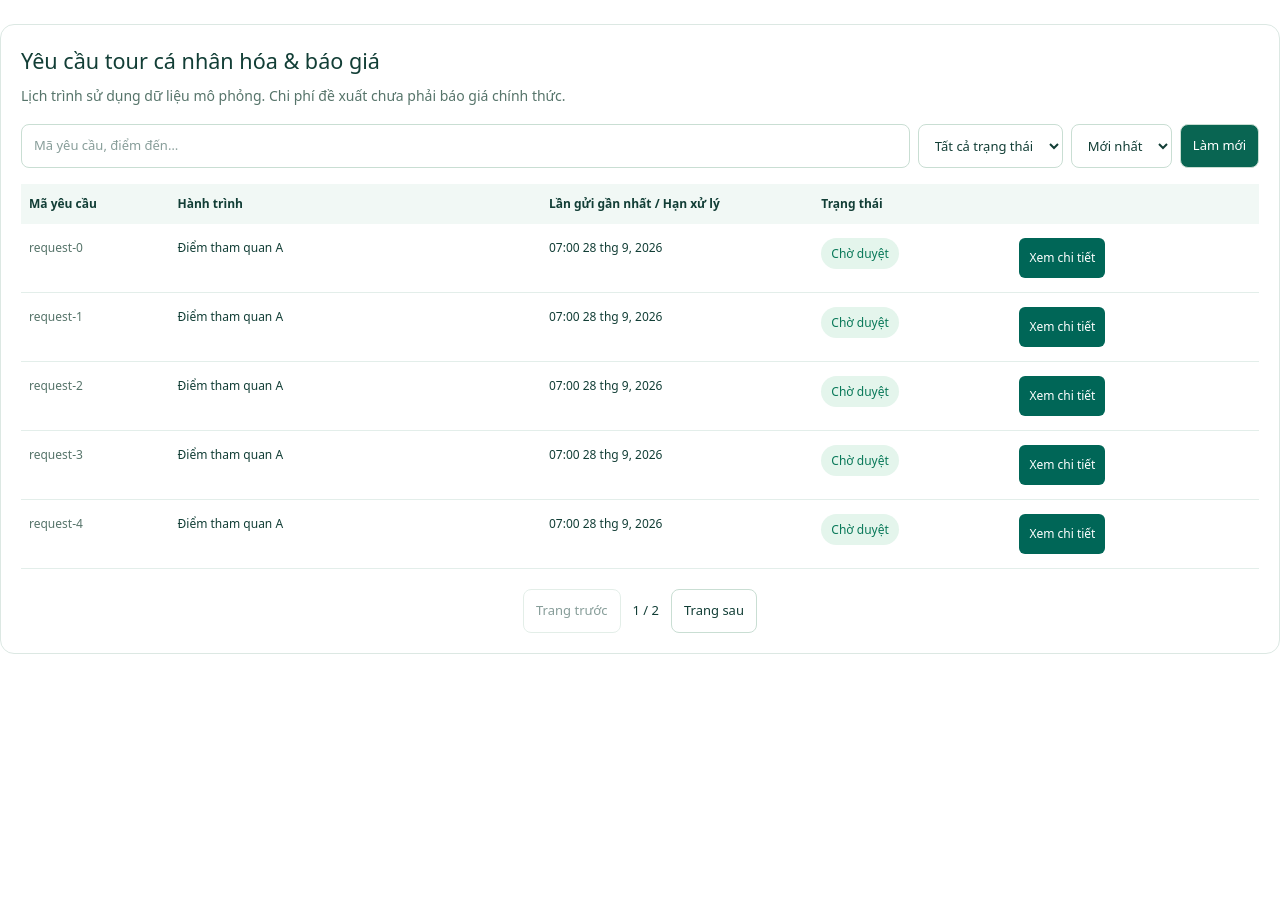
Scenario: searches requests, filters status and resets pagination
Expected: the text "request-0" is shown, [29,239,83,256]
Click the button "Trang sau": (714, 611) [671,589,757,633]
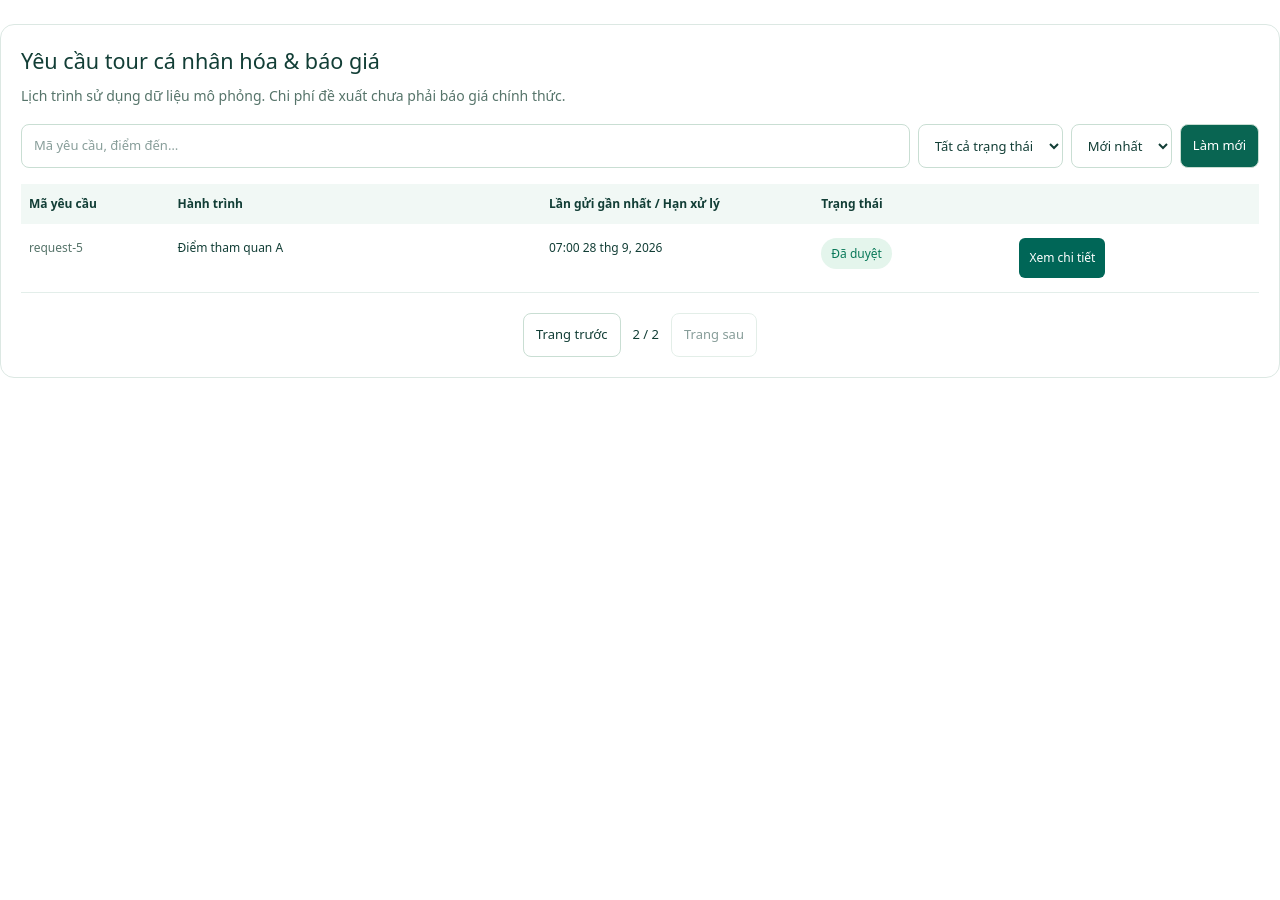
In the search field named "Tìm yêu cầu": (465, 146) [21,124,910,168], type "request-0"
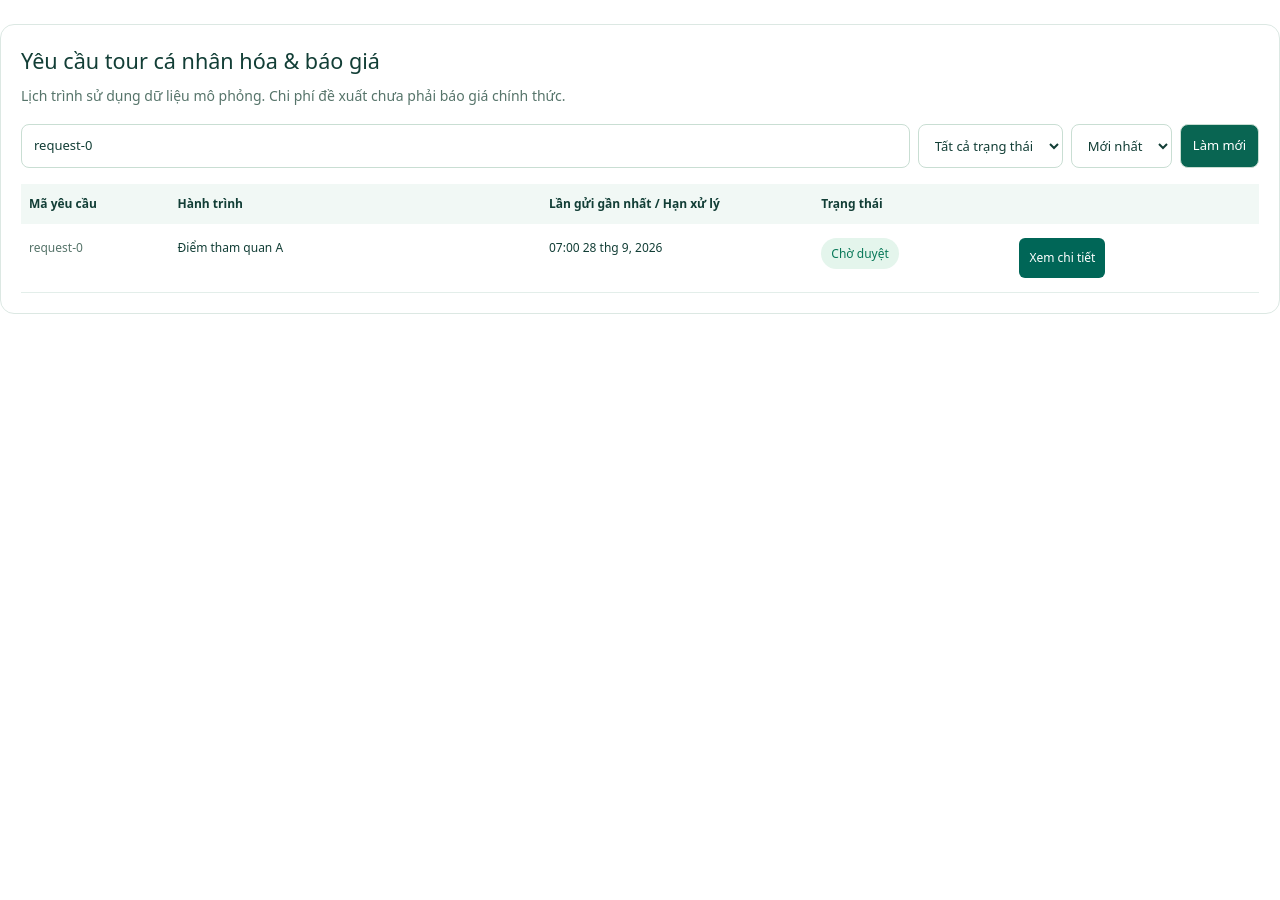
Result: the text "request-0" is shown at [29,239,83,256]
Result: the text "request-5" is gone
Clear the search field named "Tìm yêu cầu": (465, 146) [21,124,910,168]
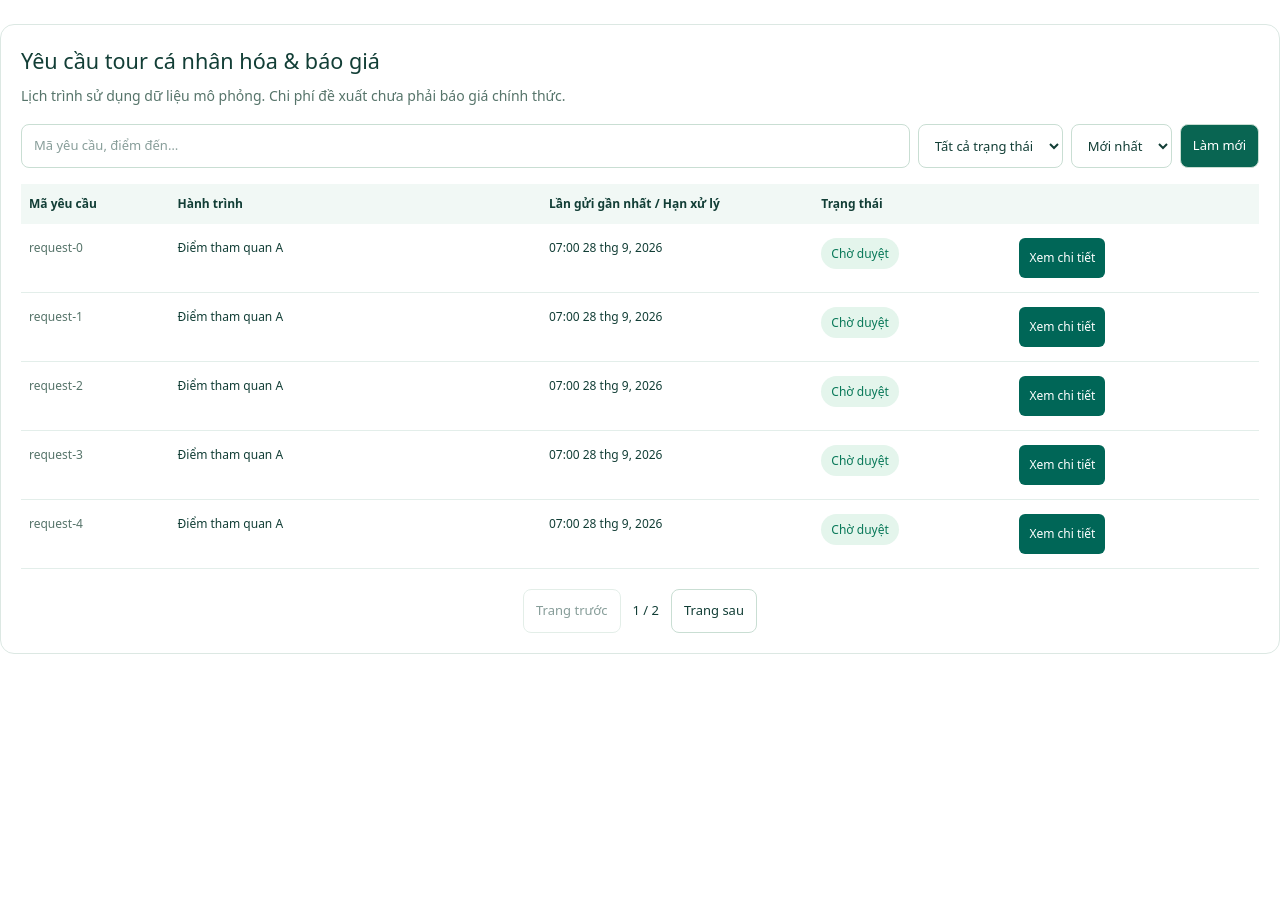
Select "Đã duyệt" in the dropdown named "Trạng thái yêu cầu": (990, 146) [918,124,1063,168]
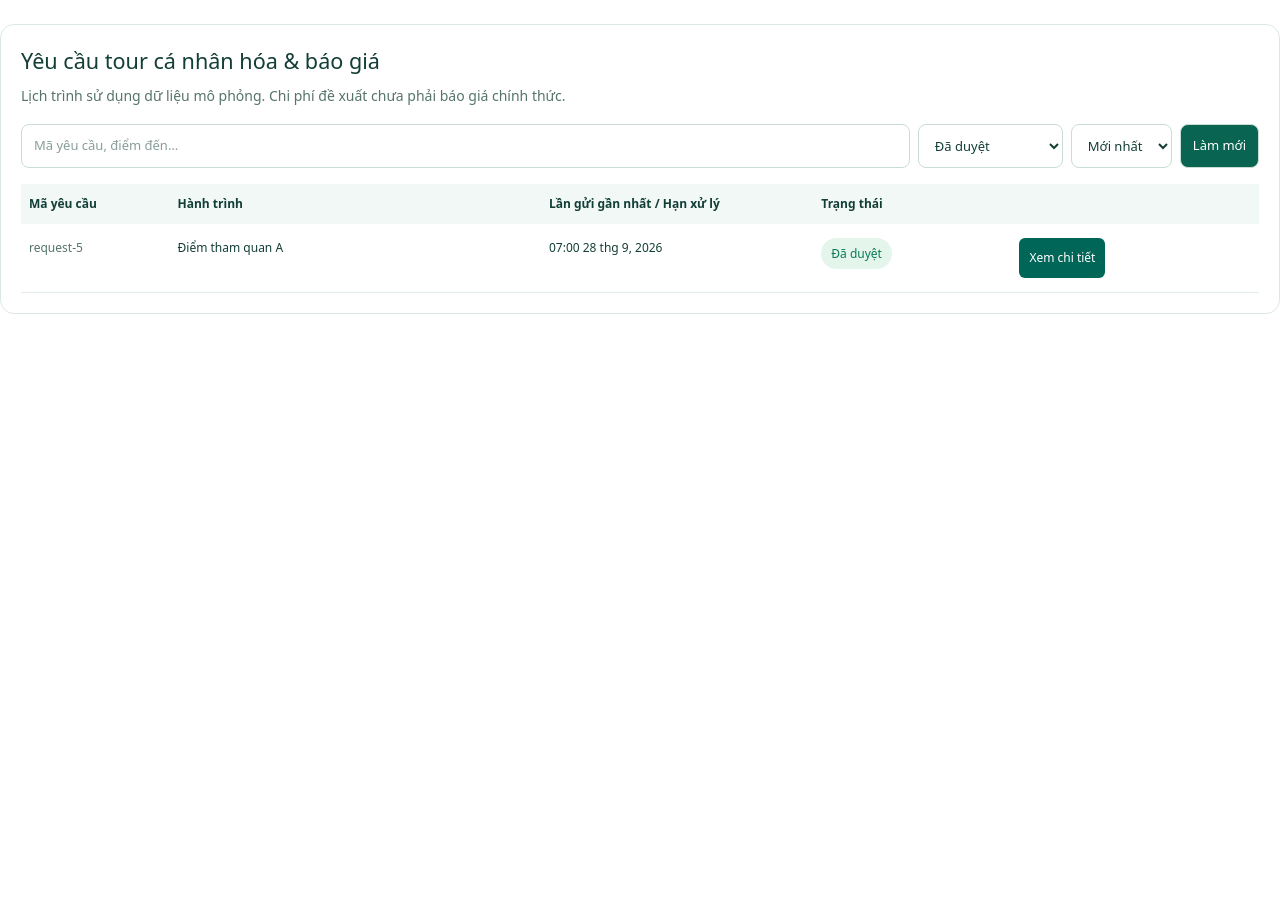
Result: the text "request-5" is shown at [29,239,83,256]
Result: the text "request-0" is gone
